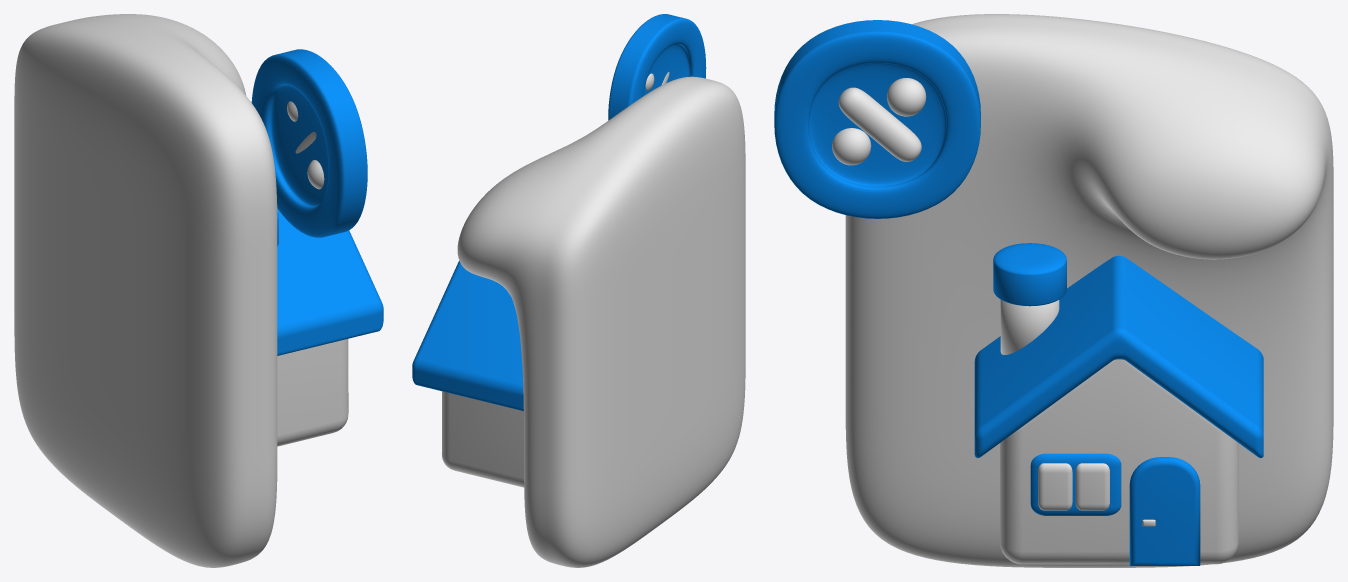
The model's file is mortgage-paper-6507816-2.glb.
The picture shows the model from 3 angles, left to right: view 1: azimuth 30°, elevation 25°; view 2: azimuth 150°, elevation 25°; view 3: azimuth 270°, elevation 25°; orthographic projection. The views are drawn at different scales.
Parts seen in each view (by area): view 1: Cube, Cube.009, Cube.004, Cube.003; view 2: Cube, Cube.004, Cube.003, Cube.009; view 3: Cube, Cube.004, Cube.009, Cube.003, Cube.008, Cylinder.007, Cube.002, Cube.007, Cylinder.006, Cube.005, Cube.006, Icosphere (+1 smaller).
Boxes of the visible parts, x1,y1,x2,y2 form: Cube: (14, 14, 277, 567); Cube.009: (251, 49, 367, 237); Cube.004: (277, 208, 383, 355); Cube.003: (277, 339, 348, 446); Cube: (457, 76, 745, 567); Cube.004: (412, 261, 523, 411); Cube.003: (441, 391, 524, 487); Cube.009: (608, 14, 706, 120); Cube: (845, 14, 1333, 567); Cube.004: (974, 255, 1263, 458); Cube.009: (774, 20, 980, 218); Cube.003: (1000, 359, 1238, 564); Cube.008: (1129, 457, 1200, 565); Cylinder.007: (993, 243, 1066, 306); Cube.002: (838, 87, 921, 161); Cube.007: (1030, 453, 1121, 515); Cylinder.006: (1000, 300, 1059, 354); Cube.005: (1038, 463, 1072, 510); Cube.006: (1075, 463, 1109, 510); Icosphere: (887, 78, 926, 116).
Bounding box in the file's own units: 3.54 × 7.42 × 6.58.
